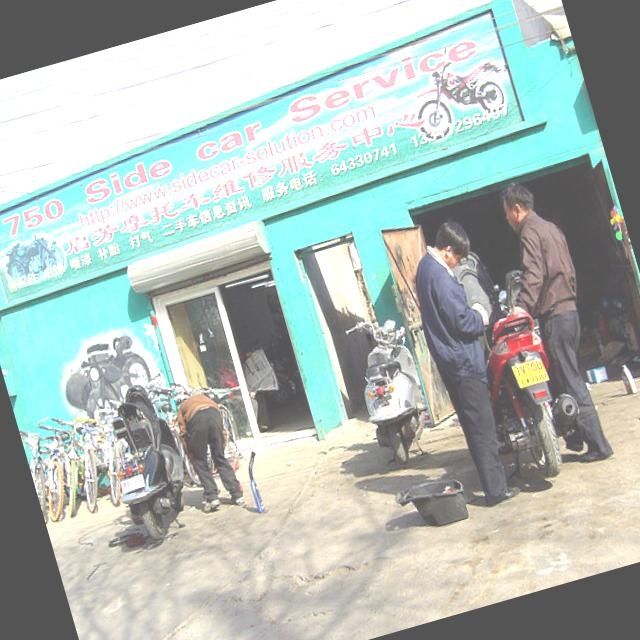Vehicle: (466, 263, 596, 487), (91, 376, 201, 544), (342, 310, 442, 470)
